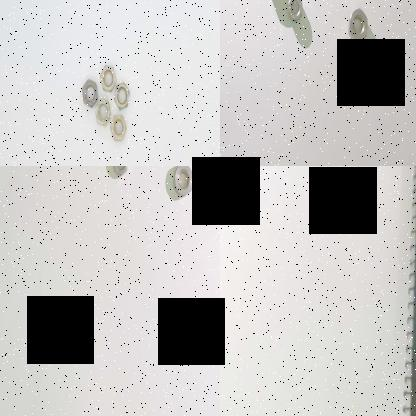NUTS: (348, 1, 370, 45), (172, 166, 194, 200), (80, 76, 98, 111), (113, 78, 132, 110), (107, 112, 127, 142), (99, 60, 116, 95), (92, 98, 110, 126), (286, 0, 304, 21), (111, 166, 129, 179)
